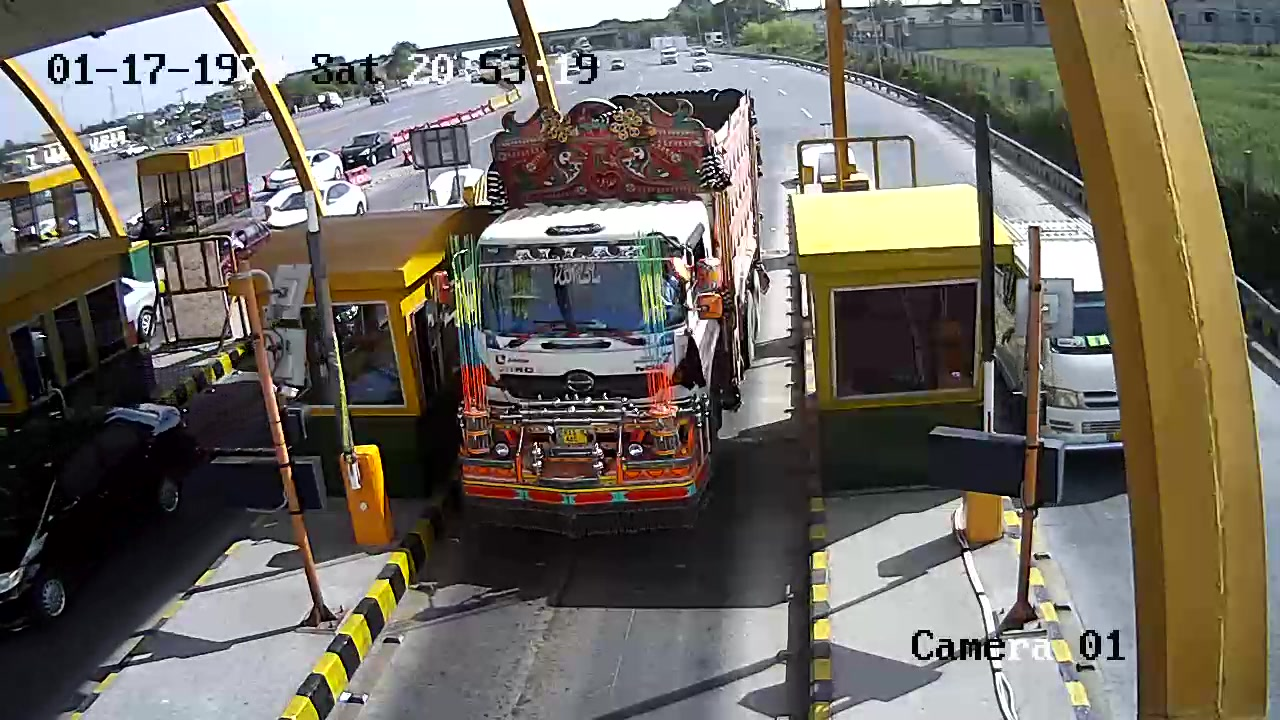F5: (442, 69, 772, 532)
